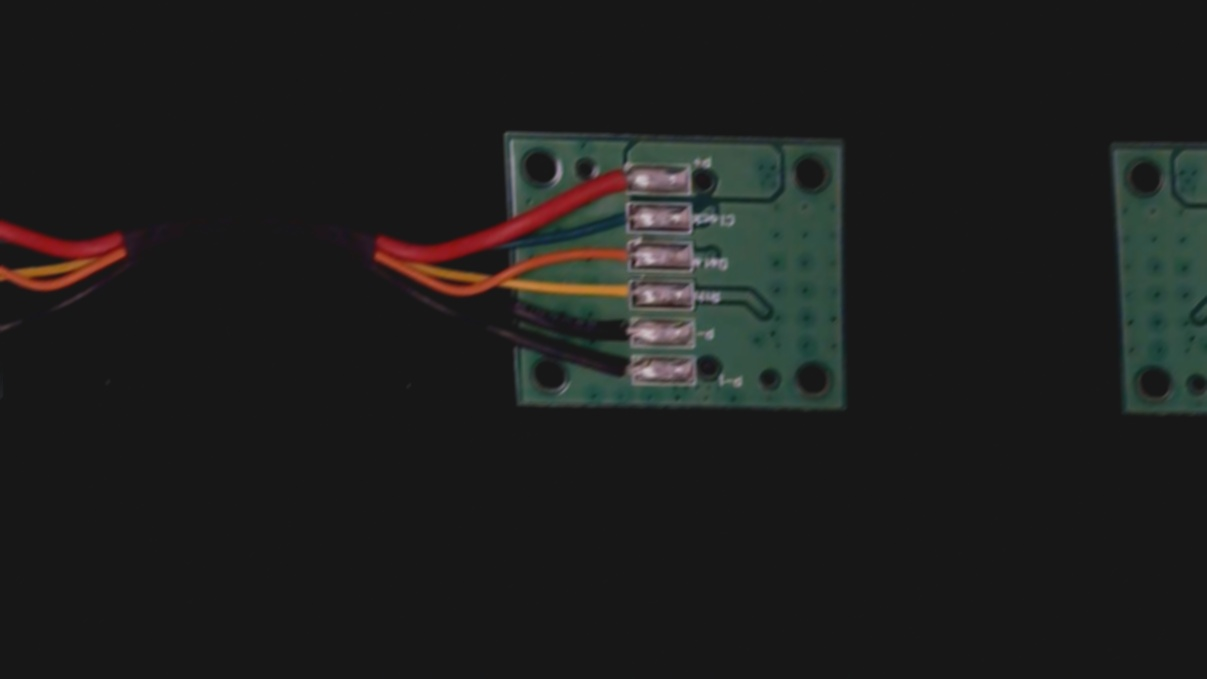Black: (579, 317, 654, 352)
Black1: (584, 357, 653, 390)
Green: (586, 203, 648, 236)
Orange: (574, 242, 649, 274)
Red: (573, 163, 646, 198)
Yellow: (574, 276, 651, 310)
